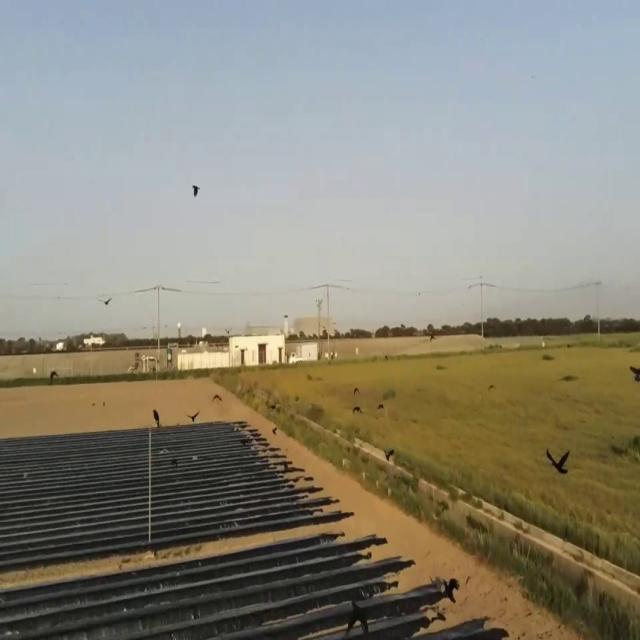bird: (546, 441, 571, 482), (629, 358, 640, 389), (382, 442, 394, 464), (188, 406, 200, 426), (153, 402, 161, 430), (102, 291, 111, 311), (192, 178, 199, 202), (212, 391, 223, 406)
